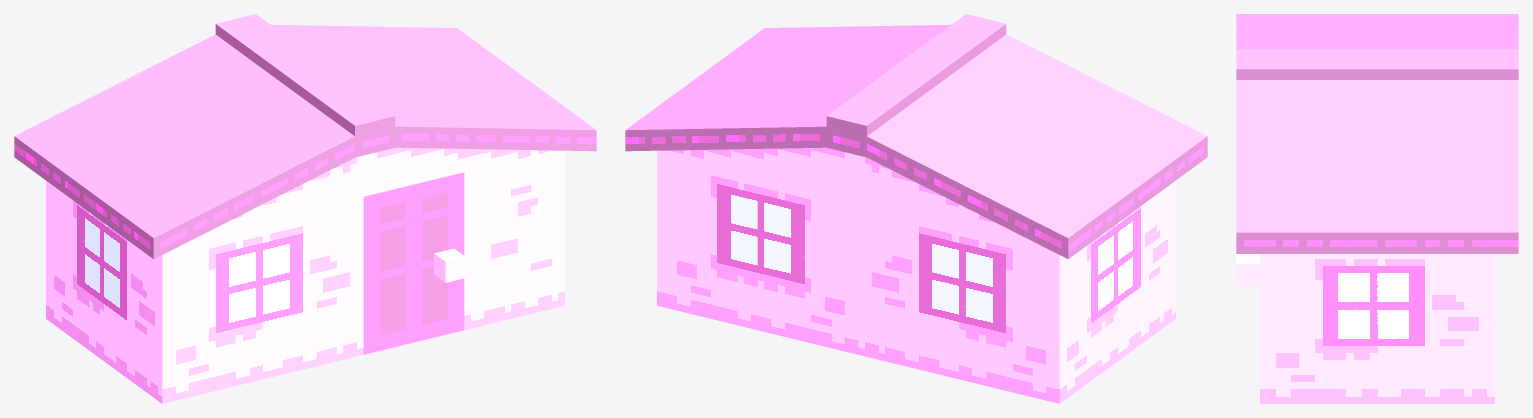
File: textured house.glb
The picture shows the model from 3 angles, left to right: view 1: azimuth 30°, elevation 25°; view 2: azimuth 150°, elevation 25°; view 3: azimuth 270°, elevation 25°; orthographic projection.
Visible parts, largest first — view 1: Cube, Cube.001; view 2: Cube; view 3: Cube, Cube.001.
Part boxes in pixels (x1,y1,x2,y2): Cube: [14, 14, 596, 403]; Cube.001: [363, 172, 465, 354]; Cube: [625, 14, 1207, 403]; Cube: [1236, 14, 1518, 403]; Cube.001: [1236, 254, 1259, 285].
Size of the model in its own units: 4.4 by 2.3 by 2.4.
